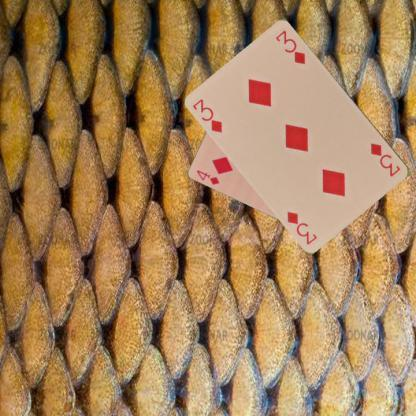3d: (190, 96, 225, 134), (368, 140, 402, 178)
4d: (194, 168, 221, 186)
